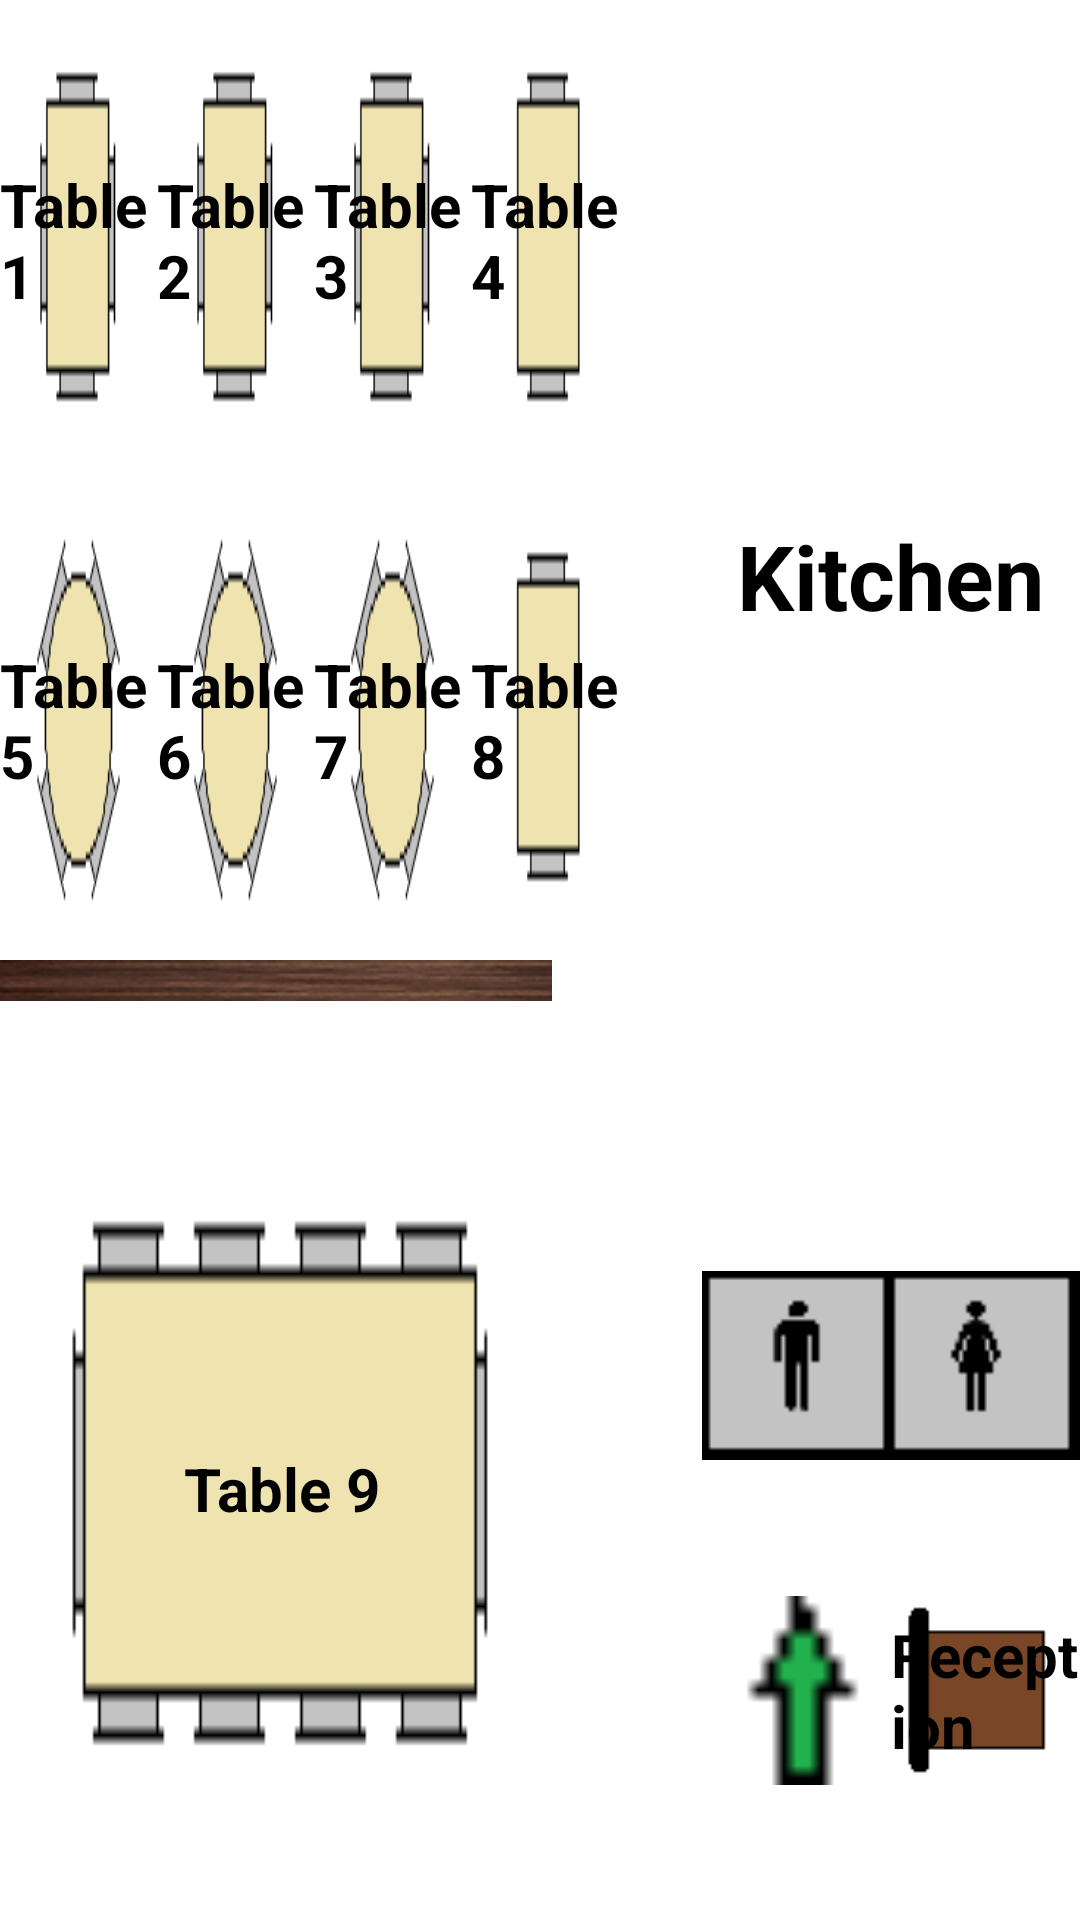

Icon click points for this 1080px x 1920px phone screenshot, format point (x, y):
entrance: point (802, 1690)
two vertical: point (544, 237), point (544, 717)
